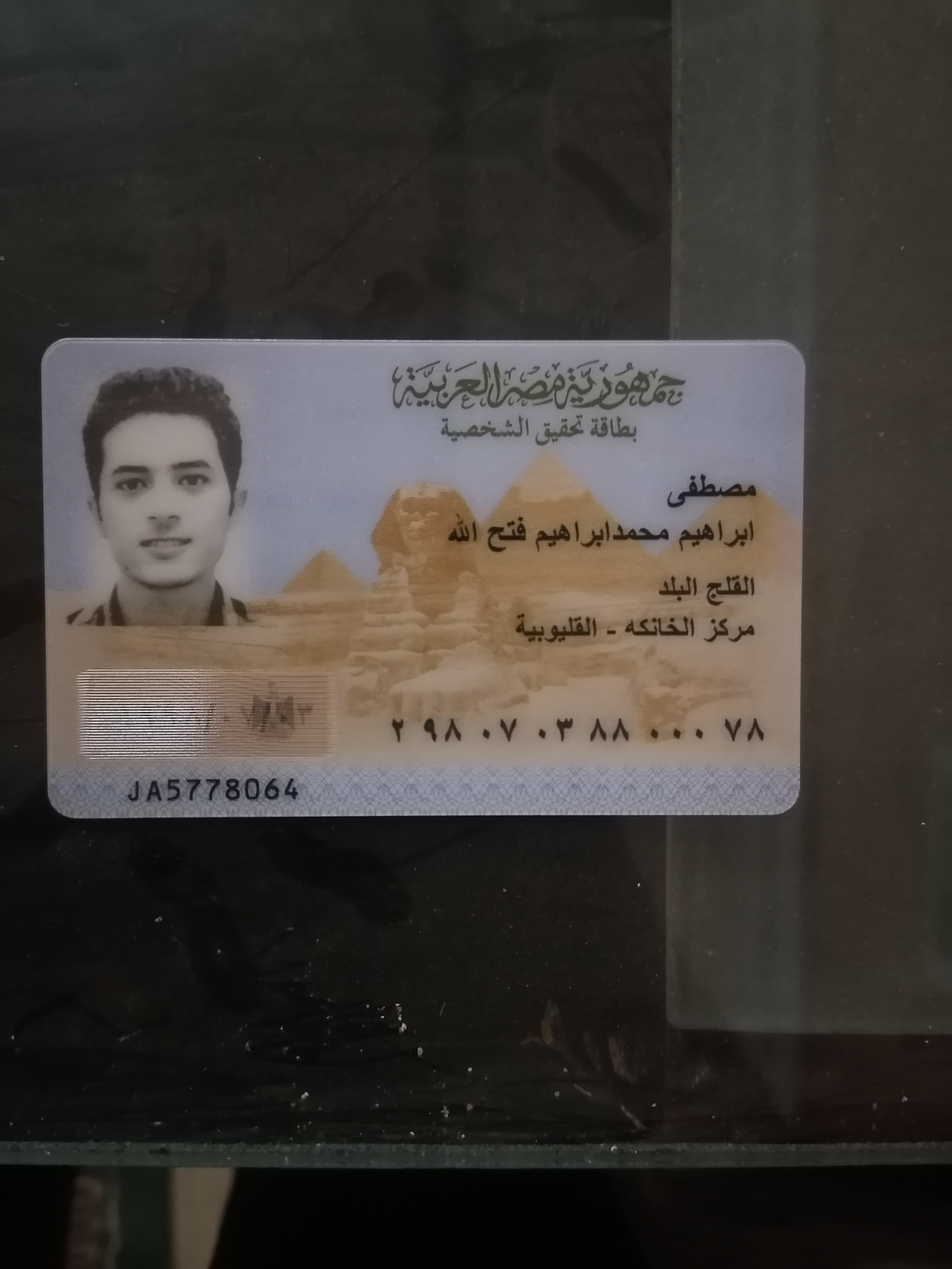address: (516, 570, 763, 653)
dob: (75, 673, 331, 757)
firstName: (662, 468, 761, 513)
front_logo: (383, 354, 689, 451)
lastName: (443, 511, 762, 558)
nid: (385, 707, 771, 753)
photo: (66, 361, 256, 625)
serial: (122, 769, 306, 812)
